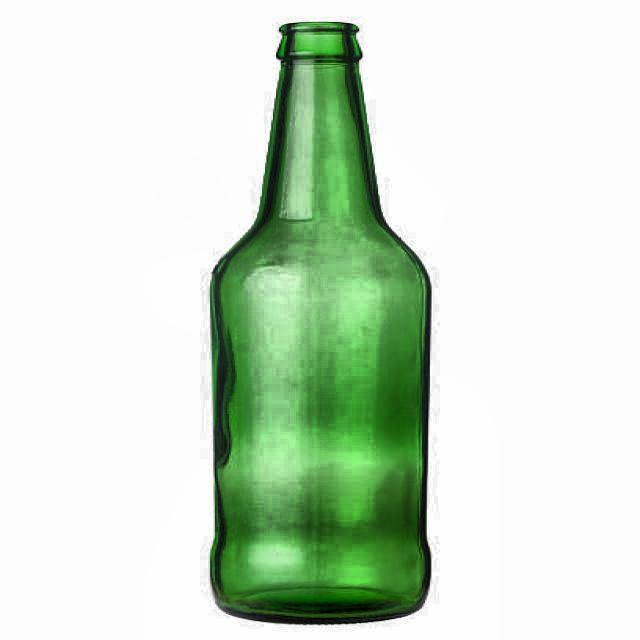glass: (209, 21, 432, 627)
